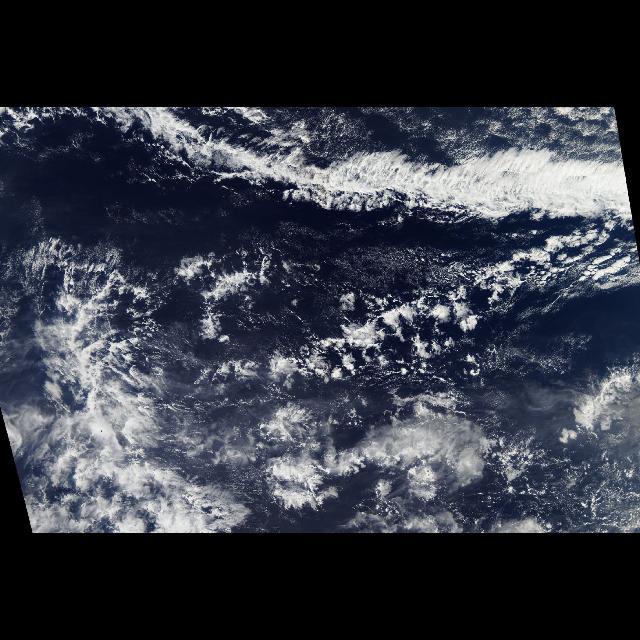Fish: (123, 110, 634, 256), (17, 266, 237, 454)
